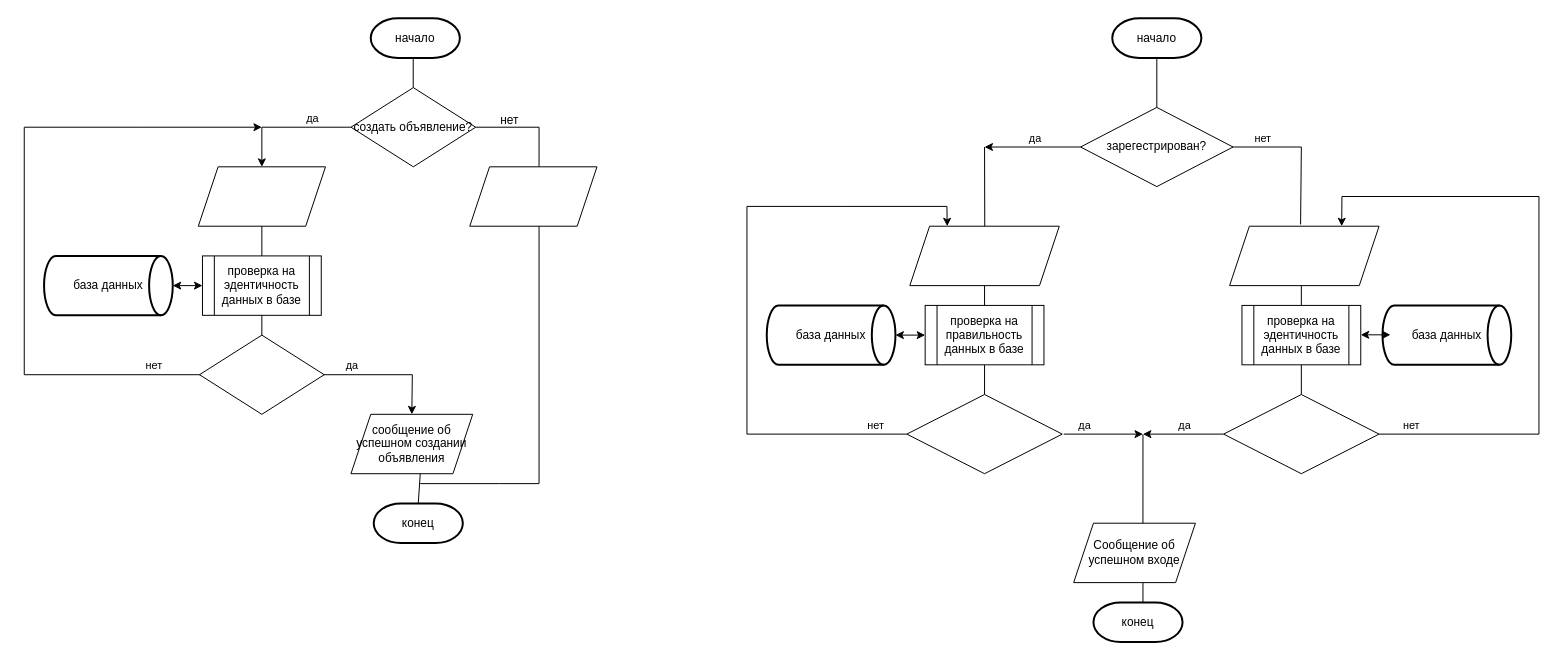
The diagram is 1564 pixels wide and 659 high, and some of its shapes have lost their labels. Here are the shapes that lost their labels. From the top down, the centre of each, then its label:
(x=261, y=196): Ввод необходимых данных
(x=533, y=196): просмотр других объявлений
(x=984, y=255): ввод логина| пароля
(x=1304, y=255): ввод необходимых для регистрации данных
(x=261, y=374): Объявление уникально?
(x=984, y=434): данные совпали?
(x=1301, y=434): учетная запись уникальна?
